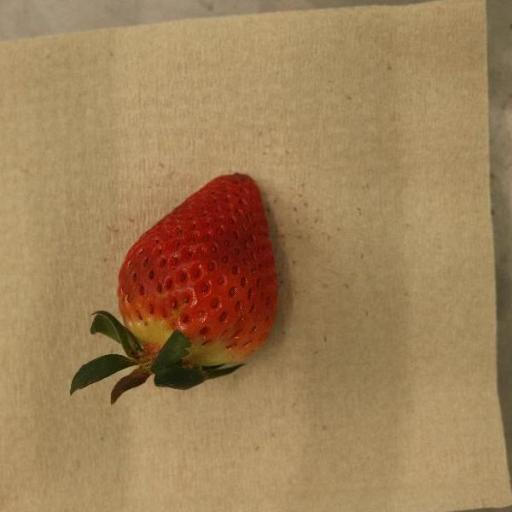Strawberry: (71, 173, 279, 406)
